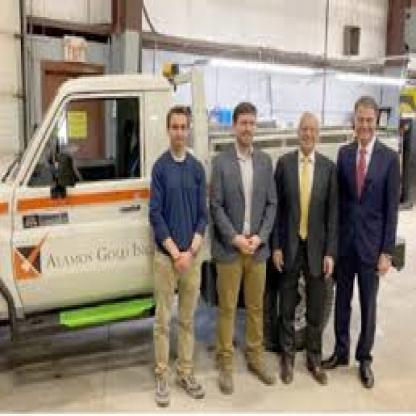person: (211, 96, 281, 399), (142, 100, 210, 410), (332, 81, 397, 393), (272, 90, 337, 384)
